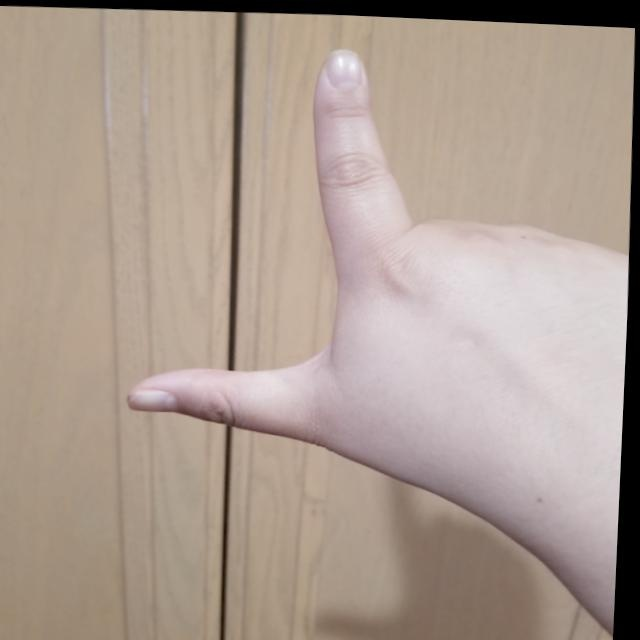L: (104, 23, 638, 537)
